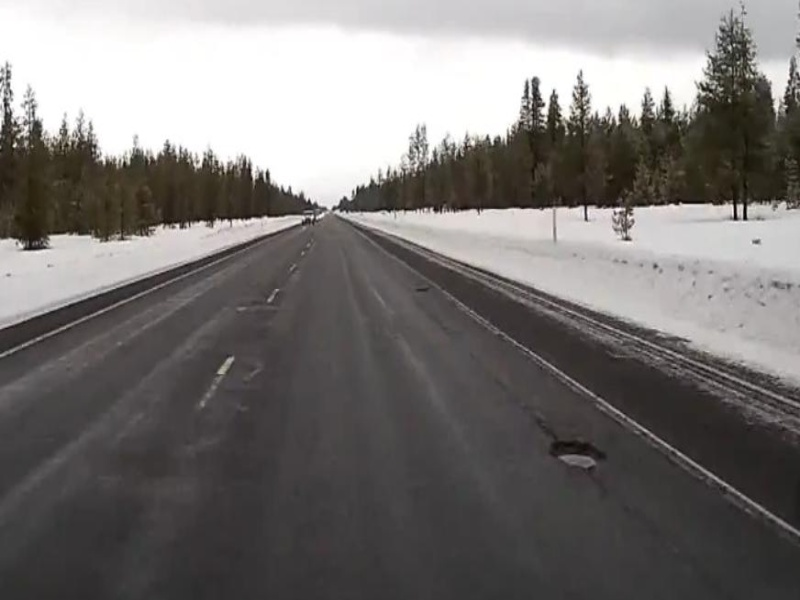pothole: (543, 439, 612, 473)
